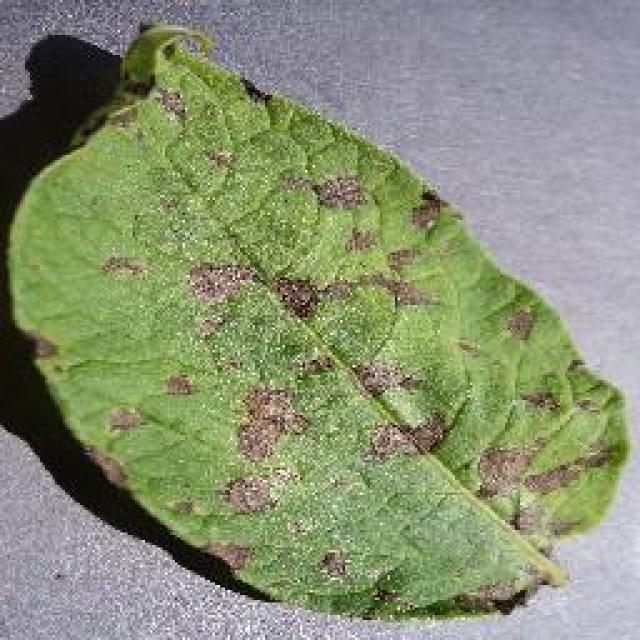early_blight: (0, 20, 632, 625)
